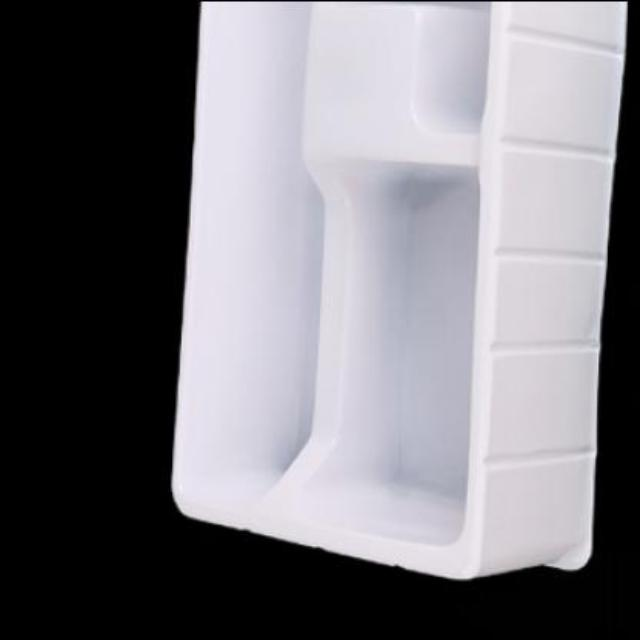plastic_box: (166, 2, 638, 578)
